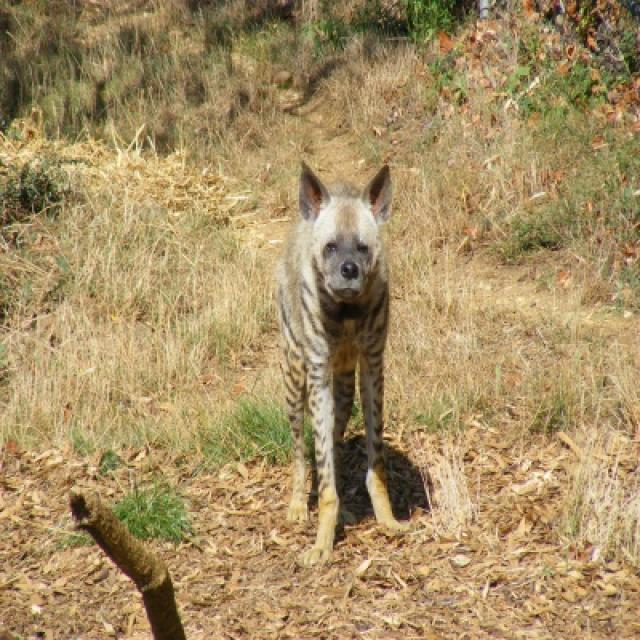hyena: (275, 166, 430, 563)
